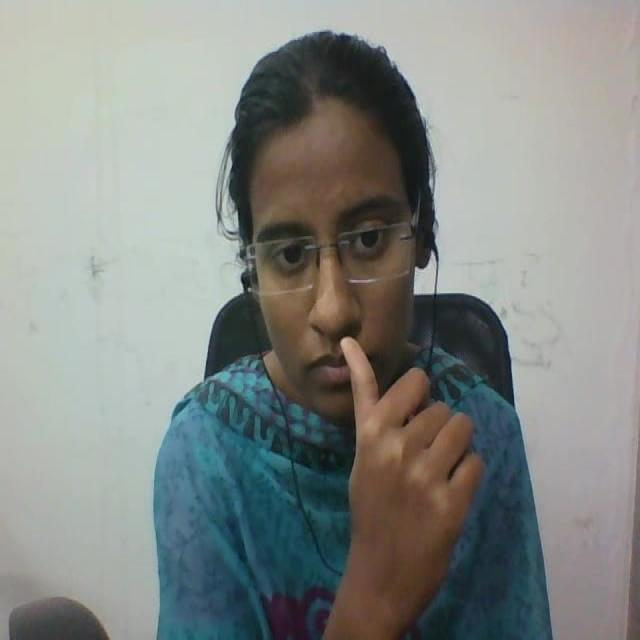Bored: (212, 14, 469, 454)
